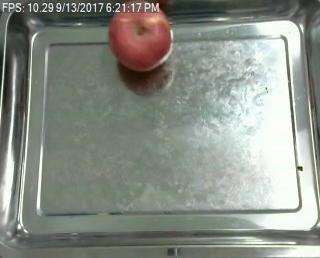apple: (108, 12, 172, 72)
